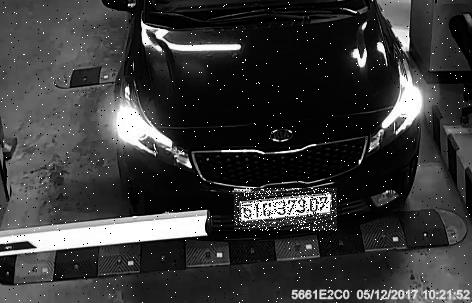License-plate: (235, 190, 338, 233)
